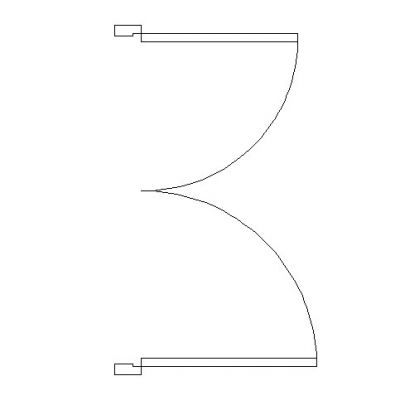door: (137, 35, 325, 365)
